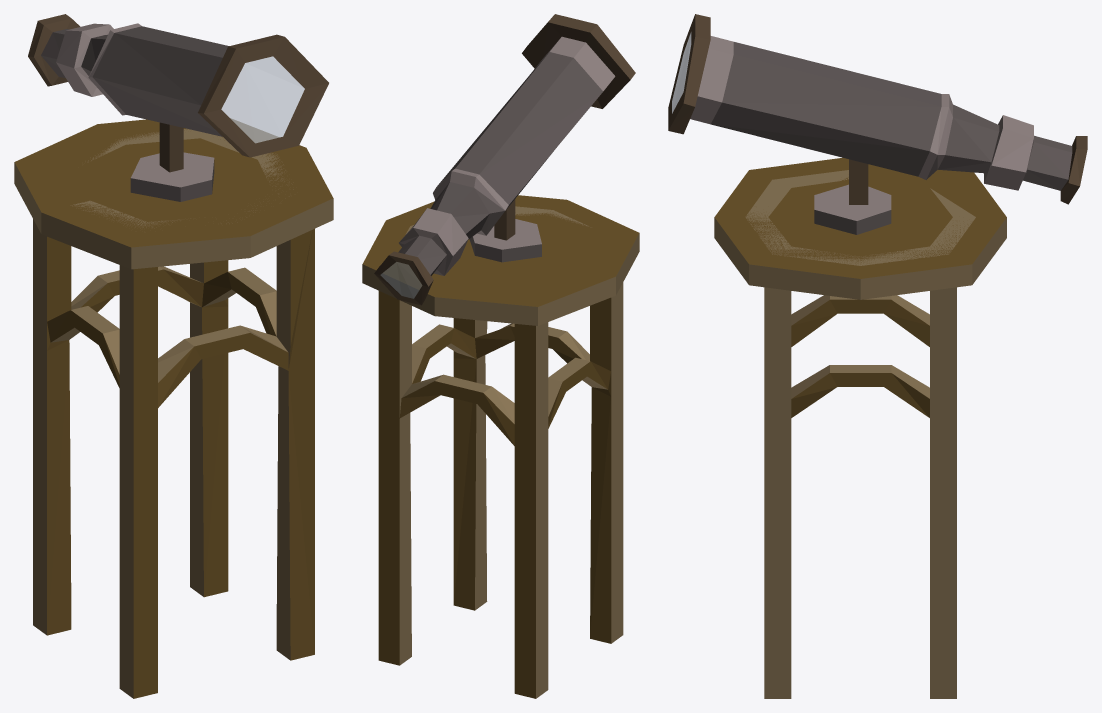
Rendered from telescope.gltf.
3 renders of one model, left to right at view 1: azimuth 30°, elevation 25°; view 2: azimuth 150°, elevation 25°; view 3: azimuth 270°, elevation 25°, orthographic. The views are drawn at different scales.
Size of the model in its own units: 76 by 181 by 109.
Materials: 2 (2 with a texture image).
